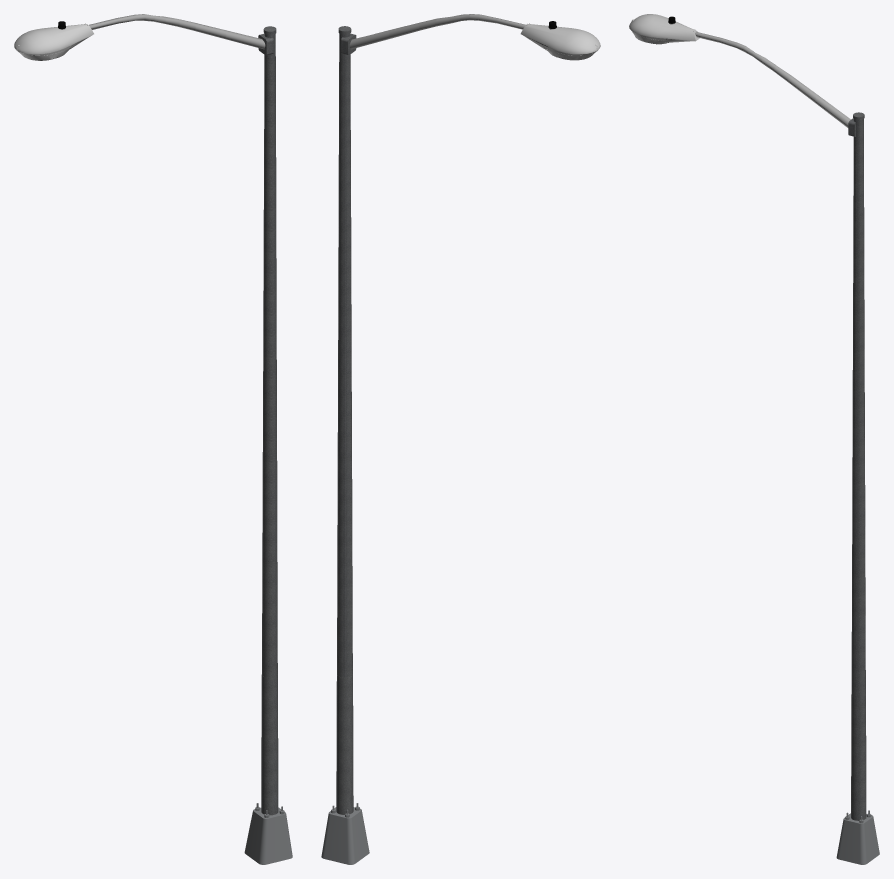
The model's file is OBJ-street_light_modern.glb.
The picture shows the model from 3 angles, left to right: view 1: azimuth 30°, elevation 25°; view 2: azimuth 150°, elevation 25°; view 3: azimuth 330°, elevation 25°; orthographic projection. The views are drawn at different scales.
Visible parts, largest first — view 1: Material2 (×4); view 2: Material2 (×4); view 3: Material2 (×4).
Part boxes in pixels (x1=…): Material2 (×4): x1=14, y1=14, x2=292, y2=864; Material2 (×4): x1=321, y1=14, x2=600, y2=864; Material2 (×4): x1=629, y1=14, x2=879, y2=864.
Size of the model in its own units: 2.55 by 8 by 0.3642.
25 materials, 8 textured.
